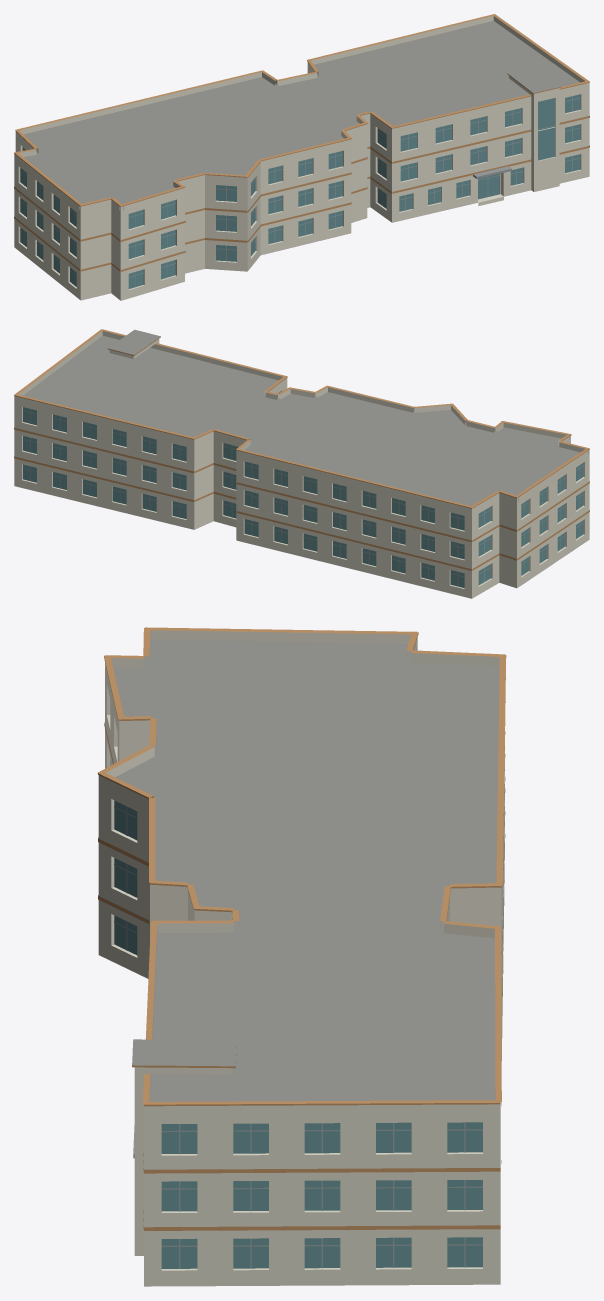
3 views of the same model, one above another, from view 1: azimuth 30°, elevation 25°; view 2: azimuth 150°, elevation 25°; view 3: azimuth 270°, elevation 25° (orthographic). The views are drawn at different scales.
Parts seen in each view (by area): view 1: continuing__wall, continuing__roof, continuing__glass, continuing__trim, continuing__parapet, continuing__frame; view 2: continuing__wall, continuing__roof, continuing__glass, continuing__trim, continuing__parapet, continuing__frame; view 3: continuing__roof, continuing__wall, continuing__glass, continuing__trim, continuing__parapet, continuing__frame.
Part boxes in pixels (x1,y1,x2,y2): continuing__wall: (14,65,589,300); continuing__roof: (15,21,588,300); continuing__glass: (20,94,580,288); continuing__trim: (14,14,589,271); continuing__parapet: (14,16,589,210); continuing__frame: (20,96,580,286); continuing__wall: (14,339,589,598); continuing__roof: (17,329,580,598); continuing__glass: (23,391,583,587); continuing__trim: (14,329,589,570); continuing__parapet: (14,331,589,512); continuing__frame: (22,409,583,586); continuing__roof: (99,639,500,1286); continuing__wall: (98,642,504,1286); continuing__glass: (114,800,482,1268); continuing__trim: (97,627,506,1230); continuing__parapet: (98,630,501,1113); continuing__frame: (114,806,482,1268).
Bounding box in the file's own units: 64.1 × 12.4 × 23.18.
